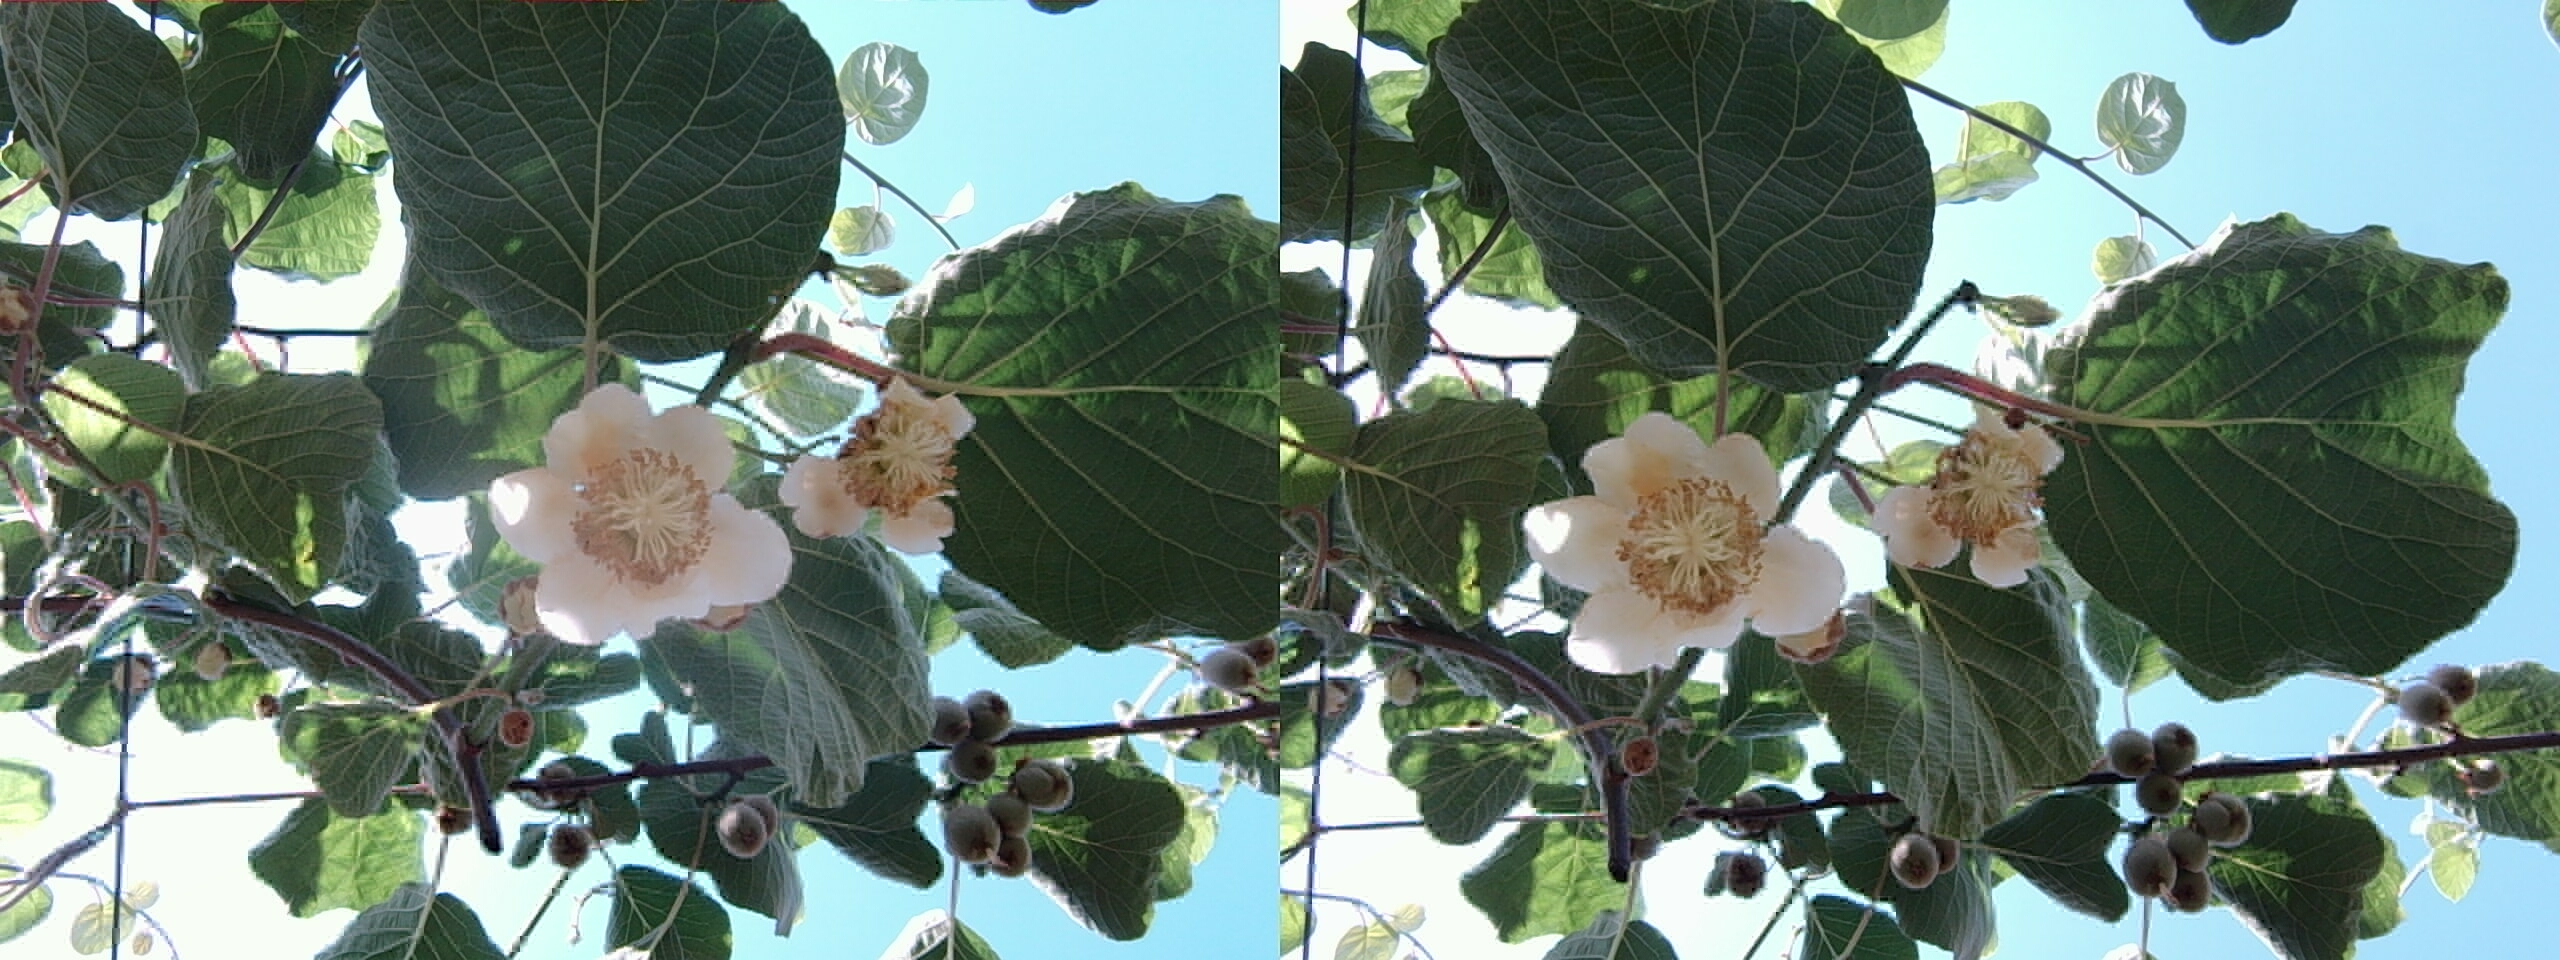flower: (1533, 407, 1830, 673), (491, 379, 772, 637), (1863, 405, 2070, 580), (782, 366, 970, 549)
